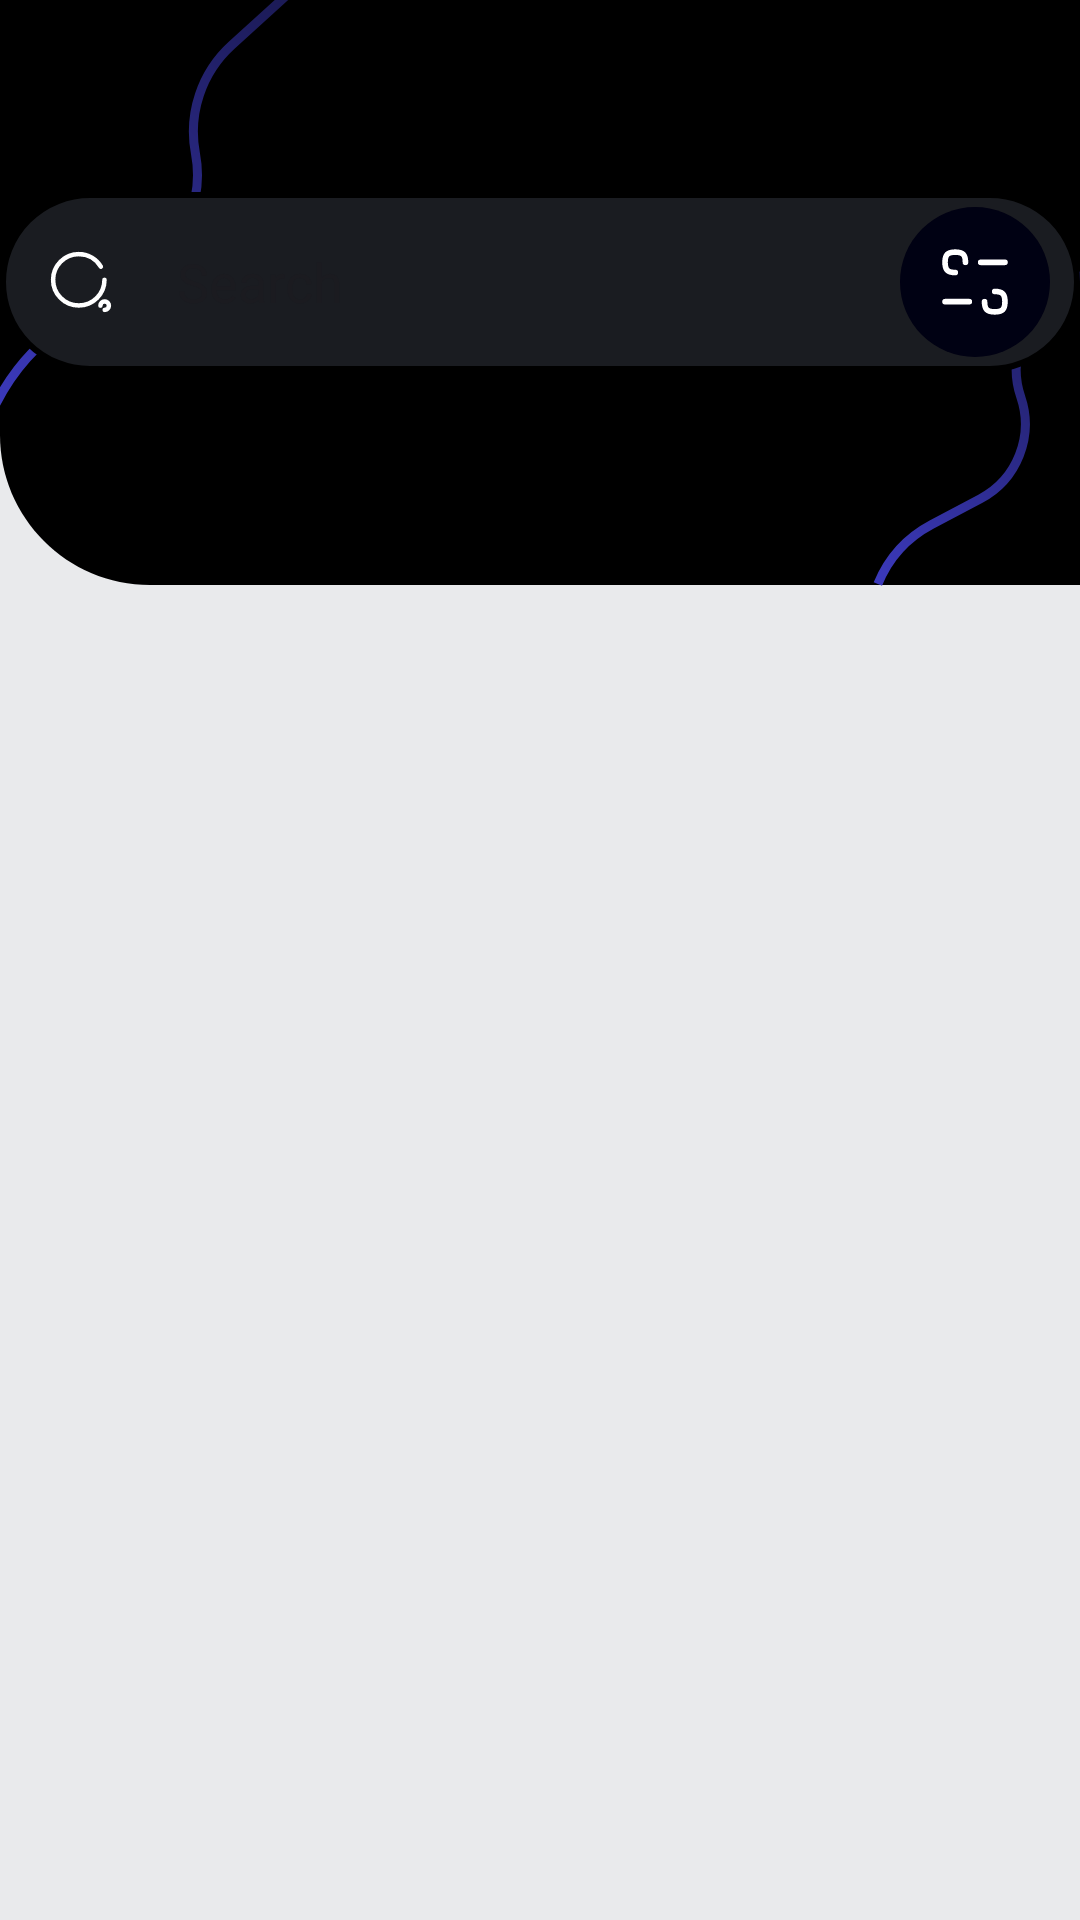

Where icons sit on this 1080w x 1920h app screen, as (x1, y1, x2, y2):
filter: (900, 207, 1050, 357)
